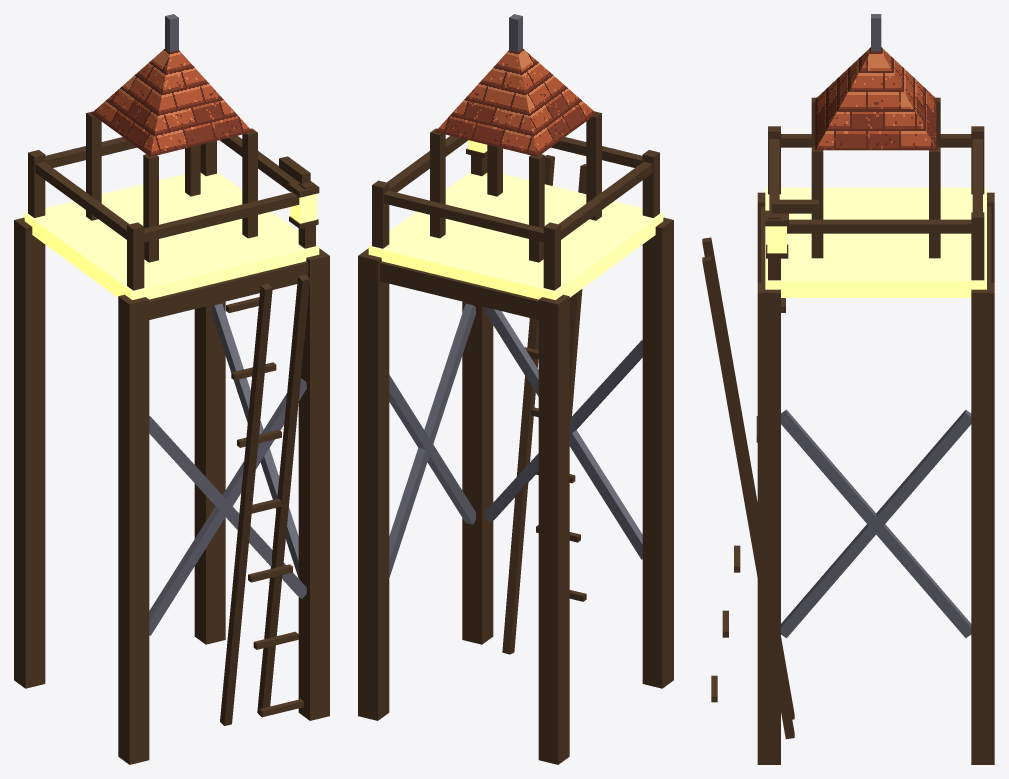
File: watchtower_t1.glb
3 renders of one model, left to right at view 1: azimuth 30°, elevation 25°; view 2: azimuth 150°, elevation 25°; view 3: azimuth 270°, elevation 25°, orthographic. The views are drawn at different scales.
Visible parts, largest first — view 1: deck, leg_3, leg_2, leg_1, roof_cap, leg_0, ladder_rail_1, ladder_rail_0, brace_front_1, deck_beam_1, brace_side_0, brace_front_0 (+12 smaller); view 2: deck, leg_2, leg_3, leg_0, leg_1, roof_cap, ladder_rail_0, brace_side_1, deck_beam_0, brace_front_1, rail_x_0, brace_front_0 (+12 smaller); view 3: deck, leg_1, leg_0, roof_cap, brace_side_0, brace_side_1, ladder_rail_0, rail_y_0, ladder_rail_1, roof_post_0, roof_post_1, rail_post_0 (+5 smaller).
Part boxes in pixels (x1=…): deck: x1=24, y1=172, x2=319, y2=299; leg_3: x1=118, y1=294, x2=149, y2=764; leg_2: x1=14, y1=217, x2=45, y2=688; leg_1: x1=298, y1=248, x2=329, y2=720; roof_cap: x1=91, y1=48, x2=252, y2=156; leg_0: x1=194, y1=301, x2=225, y2=644; ladder_rail_1: x1=220, y1=283, x2=272, y2=725; ladder_rail_0: x1=257, y1=274, x2=309, y2=716; brace_front_1: x1=149, y1=378, x2=306, y2=635; deck_beam_1: x1=149, y1=261, x2=308, y2=319; brace_side_0: x1=212, y1=303, x2=298, y2=577; brace_front_0: x1=149, y1=416, x2=306, y2=598; deck: x1=368, y1=172, x2=663, y2=299; leg_2: x1=538, y1=294, x2=569, y2=764; leg_3: x1=642, y1=217, x2=673, y2=688; leg_0: x1=358, y1=248, x2=389, y2=720; leg_1: x1=462, y1=301, x2=493, y2=644; roof_cap: x1=435, y1=48, x2=596, y2=156; ladder_rail_0: x1=502, y1=155, x2=554, y2=654; brace_side_1: x1=389, y1=303, x2=475, y2=577; deck_beam_0: x1=379, y1=261, x2=538, y2=319; brace_front_1: x1=485, y1=307, x2=642, y2=559; rail_x_0: x1=383, y1=190, x2=560, y2=243; brace_front_0: x1=485, y1=339, x2=642, y2=522; deck: x1=765, y1=187, x2=986, y2=297; leg_1: x1=757, y1=283, x2=780, y2=764; leg_0: x1=971, y1=283, x2=994, y2=764; roof_cap: x1=815, y1=47, x2=936, y2=150; brace_side_0: x1=781, y1=410, x2=971, y2=638; brace_side_1: x1=781, y1=409, x2=971, y2=637; ladder_rail_0: x1=702, y1=256, x2=794, y2=739; rail_y_0: x1=787, y1=219, x2=971, y2=233; ladder_rail_1: x1=702, y1=237, x2=794, y2=719; roof_post_0: x1=929, y1=147, x2=940, y2=258; roof_post_1: x1=811, y1=147, x2=823, y2=258; rail_post_0: x1=971, y1=212, x2=984, y2=280.
Size of what is drawn, in the model's own units: 1.82 by 5.92 by 2.25.
4 materials, 1 textured.
